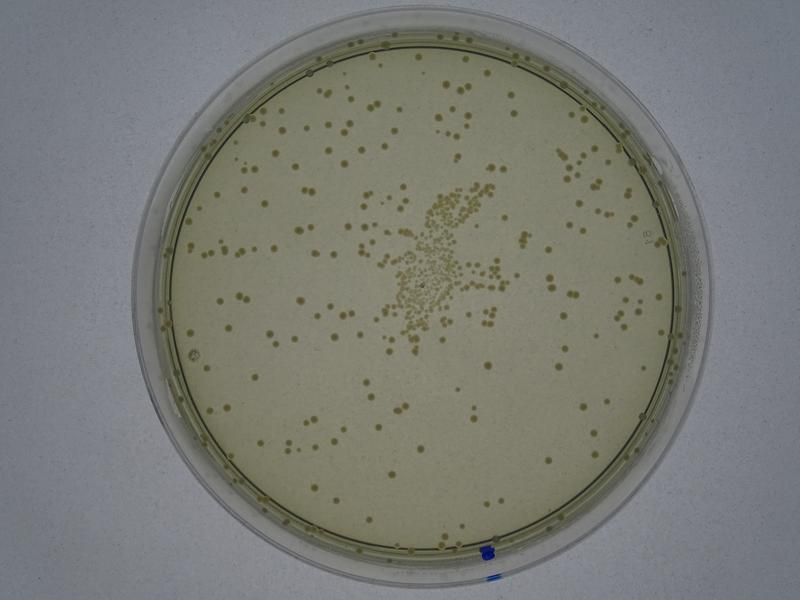colony: (292, 292, 308, 307), (222, 322, 237, 337), (382, 469, 400, 481), (557, 312, 572, 326), (541, 242, 555, 256), (542, 454, 557, 467), (553, 358, 565, 374), (308, 479, 320, 495), (254, 435, 266, 451), (440, 77, 451, 93), (384, 125, 401, 135), (482, 359, 495, 372), (361, 374, 374, 387), (362, 513, 375, 526), (290, 331, 302, 345), (290, 158, 301, 173), (267, 244, 281, 255), (509, 108, 521, 120), (249, 372, 262, 383), (415, 443, 426, 456), (338, 158, 351, 169), (327, 249, 338, 261), (330, 333, 341, 345), (320, 145, 333, 155), (506, 88, 518, 98), (577, 401, 586, 414), (222, 403, 233, 413), (260, 198, 270, 208), (588, 429, 599, 438), (590, 450, 601, 459), (396, 103, 404, 114), (603, 398, 612, 407)
